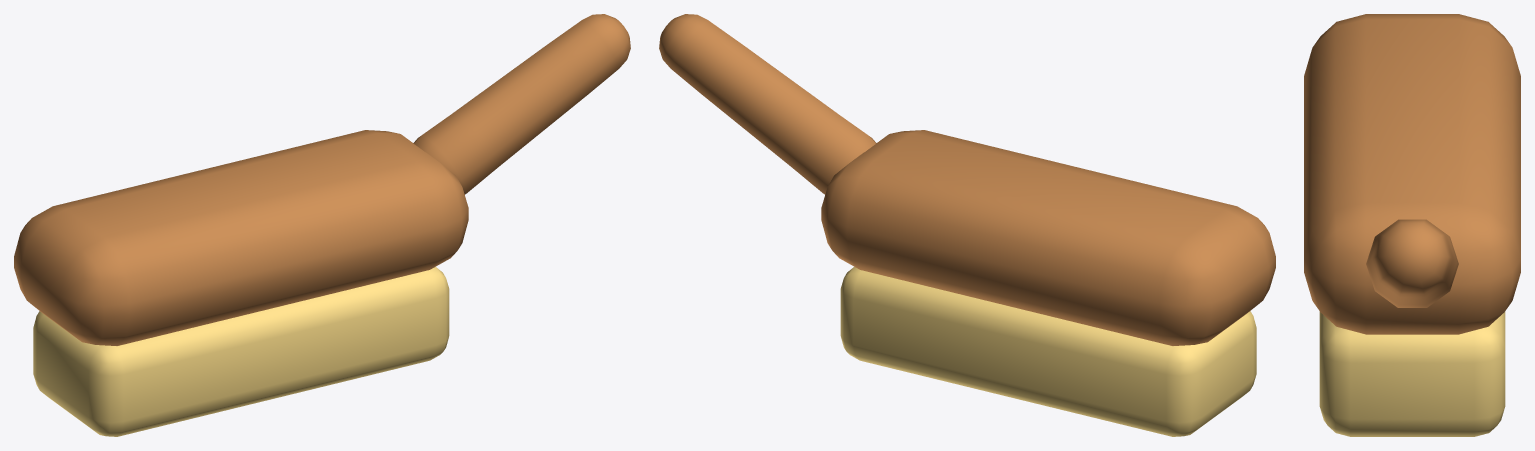
The model's file is icon_brush.glb.
3 renders of one model, left to right at view 1: azimuth 30°, elevation 25°; view 2: azimuth 150°, elevation 25°; view 3: azimuth 270°, elevation 25°, orthographic. The views are drawn at different scales.
Visible parts, largest first — view 1: icon_brush; view 2: icon_brush; view 3: icon_brush.
Boxes of the visible parts, bbox=[...] form: icon_brush: bbox=[14, 14, 630, 436]; icon_brush: bbox=[659, 14, 1275, 436]; icon_brush: bbox=[1304, 14, 1520, 436].
Bounding box in the file's own units: 0.5247 × 0.2339 × 0.14.
